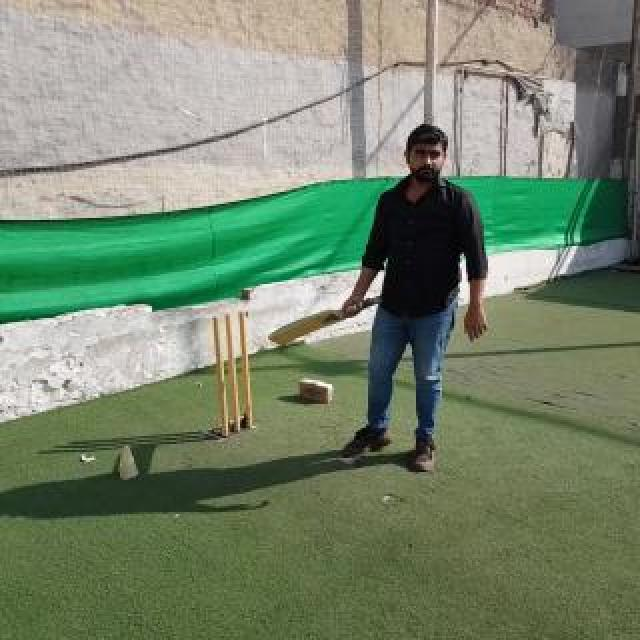bat: (268, 295, 382, 345)
